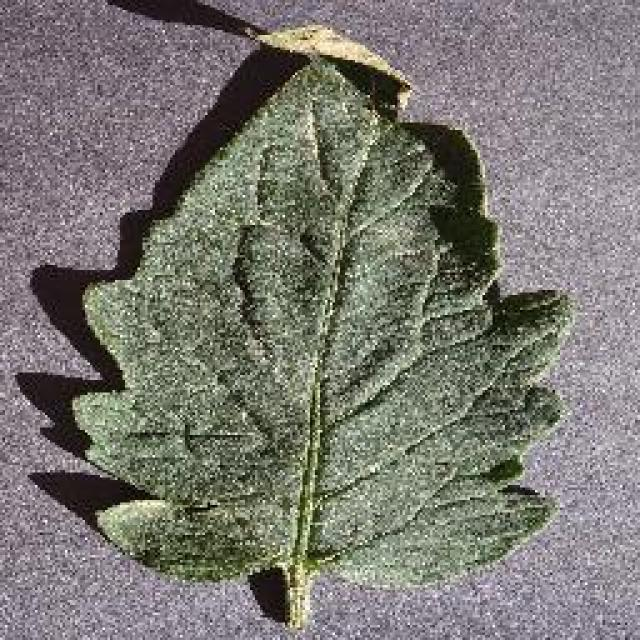Tomato_Healthy: (21, 42, 572, 586)
